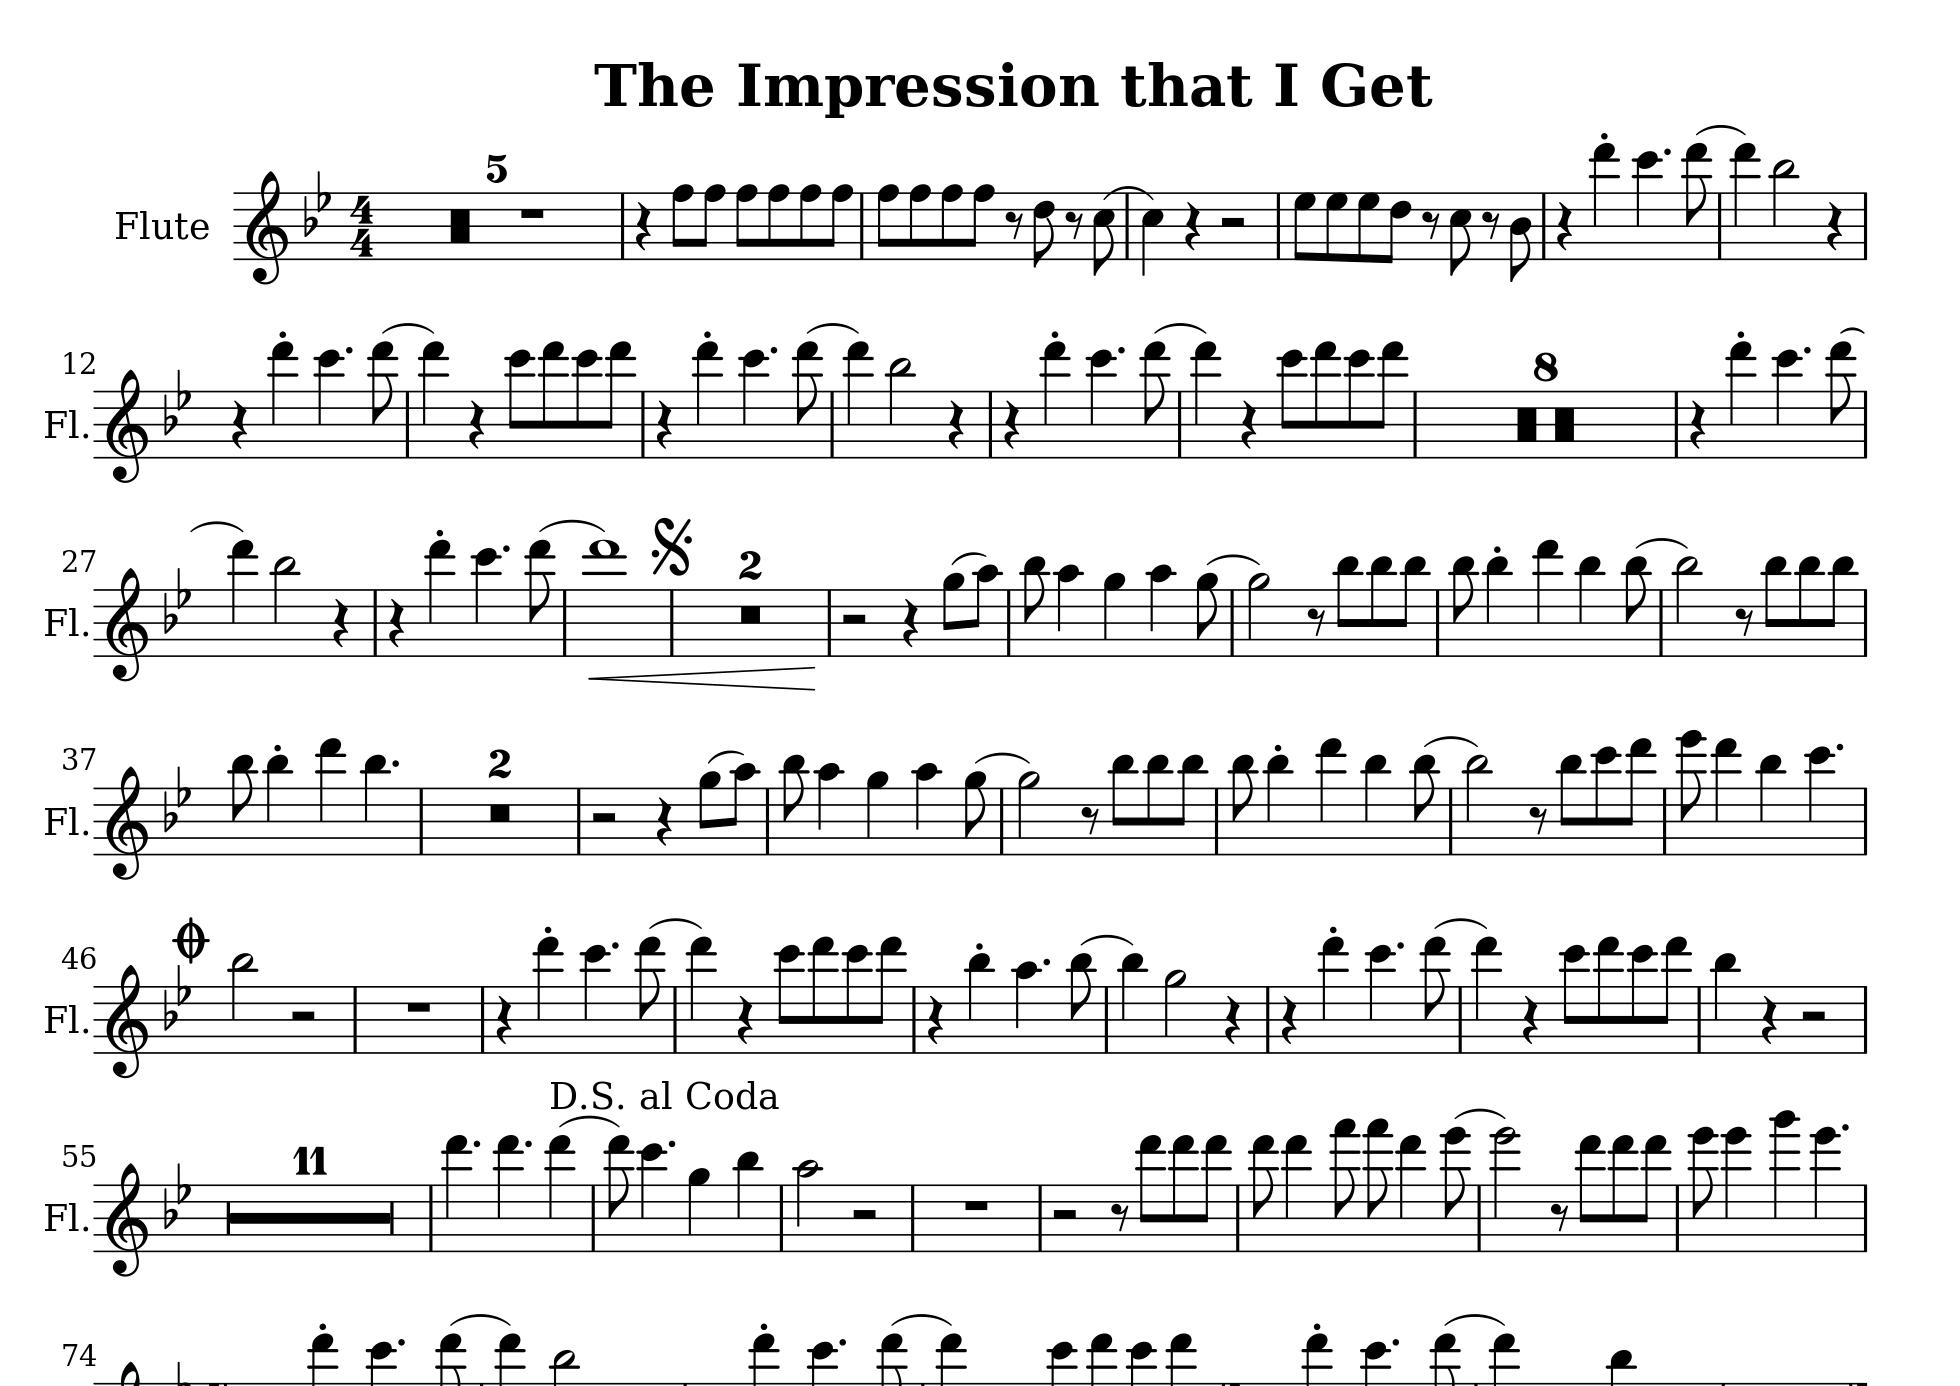1: (61, 349, 76, 375)
1_13: (585, 537, 622, 660)
2: (60, 547, 79, 574), (78, 349, 96, 375)
2_10: (793, 1156, 822, 1252)
2_11: (1672, 555, 1702, 660), (1462, 751, 1492, 856), (271, 555, 298, 661), (1770, 157, 1797, 262), (886, 355, 913, 460), (229, 951, 256, 1056)
2_9: (1161, 967, 1189, 1056), (1245, 570, 1272, 658), (1015, 769, 1041, 856)
3: (60, 745, 78, 771)
4: (348, 190, 378, 225), (348, 223, 376, 259), (60, 943, 78, 970), (79, 1341, 97, 1366)
4_10: (1146, 562, 1176, 658), (1012, 960, 1042, 1054), (912, 760, 940, 856), (1056, 562, 1083, 660), (816, 760, 843, 856)
4_11: (964, 951, 996, 1056), (1575, 553, 1605, 658), (733, 1149, 763, 1254), (264, 753, 292, 858), (1362, 751, 1390, 856), (1264, 753, 1293, 856), (1119, 951, 1147, 1054), (1711, 951, 1740, 1054), (361, 751, 388, 856), (1758, 751, 1785, 856), (1485, 555, 1512, 658)
4_12: (472, 544, 502, 660), (739, 346, 769, 460), (1087, 346, 1117, 460), (1773, 346, 1803, 460), (580, 942, 610, 1056), (1366, 942, 1396, 1056), (1804, 744, 1834, 856), (637, 1141, 667, 1252), (1633, 148, 1662, 262), (315, 346, 343, 460)
4_13: (424, 538, 454, 661), (1533, 538, 1563, 661), (1590, 141, 1620, 262), (1191, 339, 1221, 460), (1317, 736, 1347, 858), (532, 934, 562, 1056), (1471, 934, 1501, 1056), (544, 1134, 574, 1255), (843, 340, 873, 460), (268, 339, 297, 462), (693, 337, 721, 460), (228, 538, 256, 661), (316, 736, 345, 859), (1713, 736, 1741, 858), (687, 934, 715, 1056), (1320, 934, 1348, 1056), (1282, 1132, 1311, 1254), (418, 339, 447, 459), (1041, 340, 1069, 460), (1726, 340, 1755, 460), (1396, 1132, 1425, 1252), (1731, 141, 1758, 264), (442, 1134, 469, 1254), (493, 1134, 520, 1254)
4_14: (1489, 1123, 1521, 1252), (1812, 1123, 1842, 1252), (1722, 1125, 1750, 1254)
4_16: (1768, 1105, 1800, 1255)
4_5: (1140, 190, 1164, 277)
4_9: (864, 768, 891, 856), (685, 1165, 712, 1254), (1101, 571, 1128, 658)
5: (79, 1141, 97, 1168), (61, 1141, 78, 1168)
6: (79, 943, 97, 970)
7: (79, 546, 97, 574), (79, 744, 97, 771), (61, 1339, 78, 1366)
8_10: (969, 562, 1003, 658), (726, 760, 760, 856)
8_11: (1174, 751, 1207, 856), (1398, 553, 1429, 658), (1020, 553, 1050, 658), (1827, 553, 1857, 658), (1068, 951, 1098, 1054), (1450, 553, 1479, 658), (1623, 553, 1651, 658), (1110, 751, 1138, 856), (1144, 751, 1173, 856), (1230, 751, 1258, 856), (1558, 751, 1587, 856), (1335, 555, 1363, 658), (780, 753, 808, 856), (1411, 753, 1440, 856), (1797, 553, 1824, 660), (1368, 553, 1395, 658), (1764, 553, 1791, 658), (229, 751, 256, 856)
8_12: (1278, 346, 1306, 460), (505, 346, 534, 459), (1561, 942, 1590, 1054), (574, 346, 601, 459), (1593, 742, 1620, 855), (775, 942, 802, 1054), (844, 942, 871, 1054), (1630, 942, 1657, 1054), (1347, 346, 1372, 459)
8_13: (601, 339, 634, 460), (1374, 339, 1407, 459), (1623, 736, 1656, 855), (792, 340, 823, 460), (1140, 340, 1171, 460), (873, 934, 904, 1054), (1659, 934, 1690, 1054), (1198, 1132, 1230, 1252), (1638, 1132, 1669, 1252), (634, 936, 666, 1054), (1420, 936, 1452, 1054), (525, 538, 555, 660), (1248, 1132, 1278, 1254), (1683, 142, 1713, 262), (367, 340, 397, 460), (1827, 340, 1857, 460), (1575, 1132, 1605, 1252), (604, 1134, 634, 1252), (1311, 337, 1339, 460), (808, 934, 837, 1054), (1594, 934, 1623, 1054), (1135, 1132, 1164, 1252), (1168, 1132, 1197, 1252), (1608, 1132, 1636, 1252), (538, 340, 567, 459)
8_14: (1330, 1116, 1359, 1255), (1441, 1126, 1473, 1252), (1363, 1116, 1392, 1254), (1677, 729, 1707, 856), (1689, 1126, 1719, 1251)
8_4: (1507, 190, 1533, 282)
8_5: (1447, 190, 1473, 276), (1092, 190, 1116, 276)
8_6: (1383, 190, 1413, 265), (1032, 190, 1056, 268)
8_7: (1324, 190, 1348, 262), (1356, 190, 1380, 262), (1293, 190, 1317, 261)
8_8: (697, 181, 726, 262), (967, 181, 996, 262), (826, 181, 853, 262), (874, 181, 900, 261), (670, 181, 694, 262), (735, 181, 759, 262), (766, 181, 790, 262), (798, 181, 822, 262), (907, 181, 931, 262), (940, 181, 963, 262)
8_9: (961, 769, 990, 856), (1194, 571, 1221, 658), (696, 769, 721, 856), (940, 571, 964, 658)
B_F: (160, 1159, 193, 1228), (162, 366, 193, 435), (162, 763, 193, 831), (301, 168, 331, 237), (162, 963, 192, 1030), (162, 567, 192, 633)
Coda: (171, 913, 210, 963)
Crescendo_hairpin: (592, 667, 816, 691)
DSalcoda: (547, 1075, 781, 1110)
Fl: (40, 405, 81, 442), (40, 603, 81, 640), (40, 1000, 81, 1038), (40, 1198, 81, 1236), (40, 802, 81, 838), (112, 207, 148, 244)
Gclef: (103, 367, 150, 484), (103, 961, 148, 1080), (244, 168, 289, 285), (103, 565, 148, 682), (103, 763, 148, 880)
Rests1: (402, 997, 435, 1017), (960, 1195, 993, 1213), (516, 204, 547, 222)
Rests2: (847, 1204, 882, 1225), (1048, 1204, 1083, 1225), (838, 609, 871, 630), (1218, 211, 1249, 232), (588, 808, 621, 828), (286, 1005, 319, 1024), (1798, 1006, 1830, 1024)
Rests4: (1519, 991, 1542, 1047), (465, 397, 487, 451), (652, 397, 675, 451), (330, 595, 352, 649), (733, 993, 756, 1047), (1824, 199, 1845, 253), (946, 397, 967, 451), (1002, 397, 1023, 451), (1239, 397, 1260, 451), (385, 595, 406, 649), (900, 595, 921, 649), (652, 793, 673, 847), (493, 993, 514, 1047), (1222, 991, 1243, 1045), (1278, 993, 1299, 1047), (633, 199, 652, 253), (1183, 199, 1203, 253), (1554, 199, 1573, 253), (1689, 397, 1708, 451), (925, 993, 945, 1047), (1761, 991, 1780, 1045), (229, 397, 249, 450)
Rests8: (1305, 604, 1327, 636), (1548, 1200, 1570, 1231), (1080, 802, 1101, 835), (1527, 802, 1548, 835), (1005, 208, 1024, 241), (1734, 606, 1755, 636), (1065, 208, 1084, 240), (1482, 208, 1501, 240), (1110, 1200, 1129, 1231), (1422, 208, 1440, 240)
Segno: (646, 513, 694, 576)
Single_barline: (853, 190, 871, 258), (1407, 390, 1425, 457), (1857, 985, 1875, 1053), (1032, 1183, 1050, 1251), (1668, 391, 1686, 457), (820, 589, 838, 655), (412, 787, 430, 853), (570, 787, 588, 853), (346, 985, 364, 1051), (772, 1183, 790, 1249), (1857, 190, 1873, 259), (1857, 1183, 1873, 1251), (613, 192, 630, 258), (663, 589, 679, 655), (1857, 787, 1873, 853), (1260, 985, 1276, 1051), (904, 1183, 921, 1249), (1270, 192, 1287, 256), (423, 1185, 439, 1249), (1536, 190, 1551, 259), (1858, 588, 1873, 655), (984, 390, 999, 456), (367, 589, 382, 655), (475, 985, 490, 1051), (667, 985, 682, 1051), (1692, 985, 1707, 1051), (1713, 193, 1728, 258), (636, 391, 651, 456), (907, 987, 922, 1051), (1858, 390, 1872, 457), (1444, 787, 1458, 853), (400, 391, 414, 456), (1173, 391, 1186, 456), (558, 589, 571, 654), (1101, 988, 1114, 1053), (1473, 1183, 1486, 1248), (1122, 193, 1135, 256), (586, 1186, 600, 1249), (1455, 987, 1467, 1051), (826, 391, 838, 454), (1672, 1186, 1684, 1249)
Slur: (538, 517, 606, 532), (1443, 1312, 1509, 1327), (448, 1312, 513, 1327), (889, 1312, 954, 1327), (559, 1114, 622, 1129), (1077, 933, 1137, 948), (1422, 733, 1480, 748), (1432, 916, 1491, 931), (190, 519, 243, 535), (1455, 1105, 1507, 1122), (1206, 552, 1263, 567), (1104, 184, 1155, 201), (1635, 535, 1689, 550), (973, 751, 1032, 765), (1152, 322, 1209, 336), (382, 321, 433, 336), (1695, 123, 1749, 136), (805, 321, 859, 334), (649, 916, 703, 930), (706, 748, 745, 763), (951, 550, 987, 565), (1839, 327, 1866, 336)
TimeSig: (348, 192, 376, 258)
dot: (664, 1135, 678, 1150), (607, 937, 621, 951), (1393, 937, 1407, 951), (520, 1137, 534, 1150), (1660, 145, 1674, 157), (1800, 343, 1813, 355), (388, 757, 402, 769), (1839, 1120, 1851, 1134), (469, 1137, 481, 1150), (394, 1335, 406, 1348), (835, 1335, 847, 1348), (1389, 1335, 1401, 1348), (342, 343, 354, 355), (766, 343, 778, 355), (1114, 343, 1126, 355), (499, 541, 511, 553), (1041, 955, 1053, 967), (1834, 739, 1845, 753)
